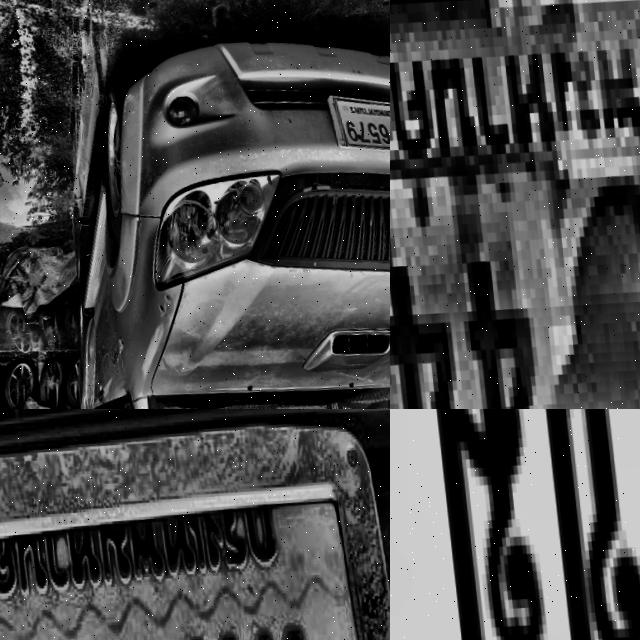license-plate: (390, 0, 640, 409), (0, 409, 390, 640), (390, 409, 640, 640), (320, 80, 390, 162)
